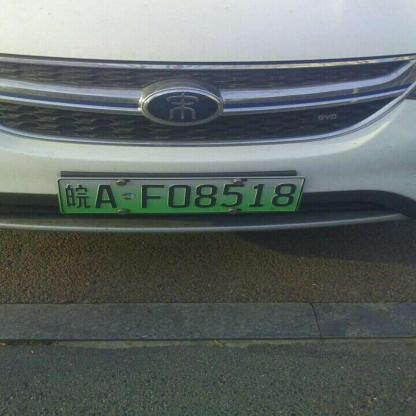lp: (59, 178, 302, 211)
